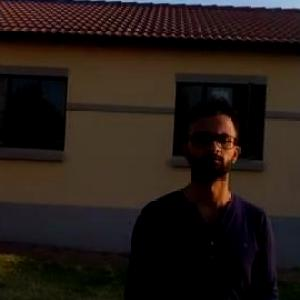follow: (114, 80, 284, 299)
